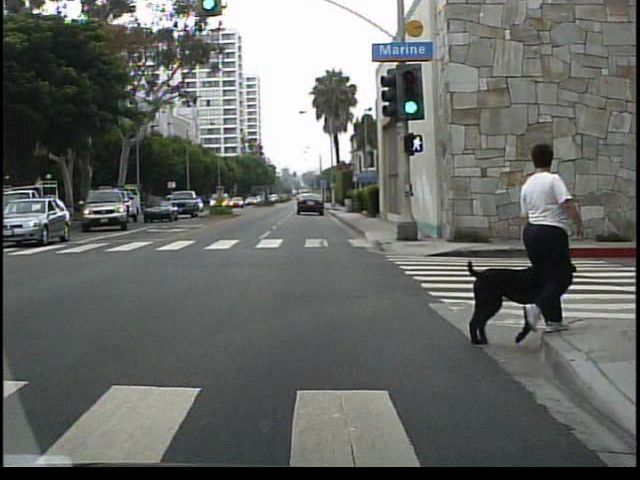person: (509, 142, 584, 341)
